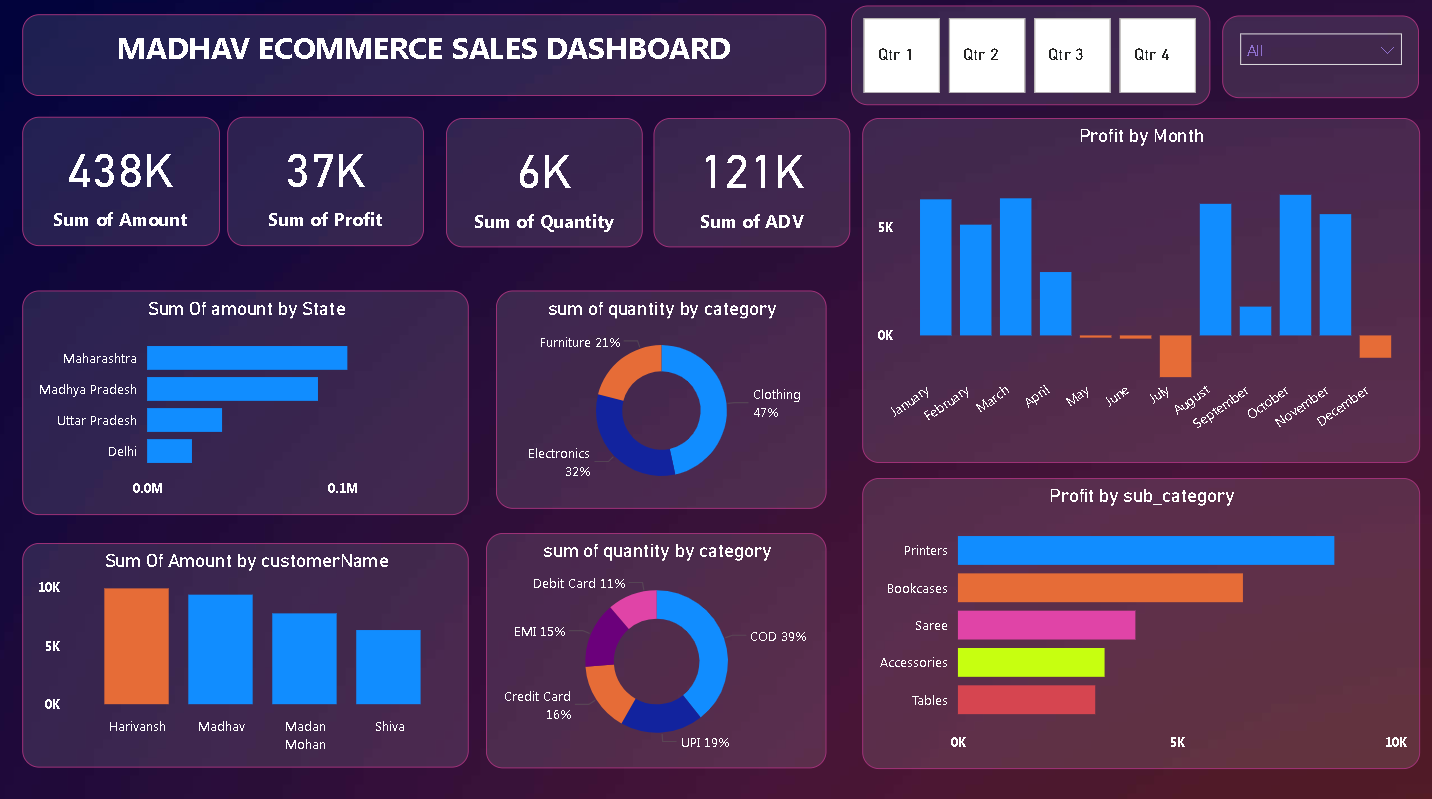

The dashboard page shown, as its layout file describes it:
{"tool":"powerbi","page":{"name":"Dashboard","canvas":[1280,720],"ordinal":0},"visuals":[{"type":"textbox","box":[23.3,19.2,716.3,72.7],"z":0},{"type":"columnChart","title":"Profit by Month","fields":{"Y":["Details.Profit"],"Category":["Orders.Order Date.Variation.Date Hierarchy.Month"]},"box":[770.9,111.6,496.5,307],"z":1000},{"type":"barChart","title":"Profit by sub_category","fields":{"Category":["Details.Sub-Category"],"Y":["Details.Profit"]},"box":[770.9,431.4,496.5,259.3],"z":2000},{"type":"donutChart","title":"sum of quantity by category","fields":{"Category":["Details.Category"],"Y":["Details.Quantity"]},"box":[445.4,265.1,294.2,194.2],"z":3000},{"type":"donutChart","title":"sum of quantity by category","fields":{"Y":["Details.Quantity"],"Category":["Details.PaymentMode"]},"box":[436,481.4,303.5,209.3],"z":4000},{"type":"cardVisual","fields":{"Data":["Details.Amount"]},"box":[23.3,109.8,175.6,115.3],"z":5000},{"type":"cardVisual","fields":{"Data":["Details.Profit"]},"box":[205.8,110.5,175.6,115.1],"z":6000},{"type":"cardVisual","fields":{"Data":["Details.Quantity"]},"box":[401.2,111.6,175.6,115.1],"z":7000},{"type":"cardVisual","fields":{"Data":["Details.ADV"]},"box":[586,111.6,175.6,115.1],"z":8000},{"type":"barChart","title":"Sum Of amount by State","fields":{"Category":["Orders.State"],"Y":["Details.Amount"]},"box":[23.3,264.8,397.9,200.3],"z":9000},{"type":"columnChart","title":"Sum Of Amount by customerName","fields":{"Category":["Orders.CustomerName"],"Y":["Details.Amount"]},"box":[23.3,489.9,397.9,200.3],"z":10000},{"type":"advancedSlicerVisual","fields":{"Values":["Orders.Order Date.Variation.Date Hierarchy.Quarter"]},"box":[761.6,11,319.7,89.2],"z":11000},{"type":"slicer","fields":{"Values":["Orders.State"]},"box":[1091.9,19.8,175.6,73.3],"z":12000}]}

Visuals, with their boxes in screenshot pixels (x1, y1, x2, y2), scaled from the page's 1280x720 canvas onto the 1432x799 screenshot:
textbox: <region>26, 21, 827, 102</region>
"Profit by Month" columnChart: <region>862, 124, 1418, 465</region>
"Profit by sub_category" barChart: <region>862, 479, 1418, 766</region>
"sum of quantity by category" donutChart: <region>498, 294, 827, 510</region>
"sum of quantity by category" donutChart: <region>488, 534, 827, 766</region>
cardVisual - Details.Amount: <region>26, 122, 223, 250</region>
cardVisual - Details.Profit: <region>230, 123, 427, 250</region>
cardVisual - Details.Quantity: <region>449, 124, 645, 252</region>
cardVisual - Details.ADV: <region>656, 124, 852, 252</region>
"Sum Of amount by State" barChart: <region>26, 294, 471, 516</region>
"Sum Of Amount by customerName" columnChart: <region>26, 544, 471, 766</region>
advancedSlicerVisual - Orders.Order Date.Variation.Date Hierarchy.Quarter: <region>852, 12, 1210, 111</region>
slicer - Orders.State: <region>1222, 22, 1418, 103</region>
